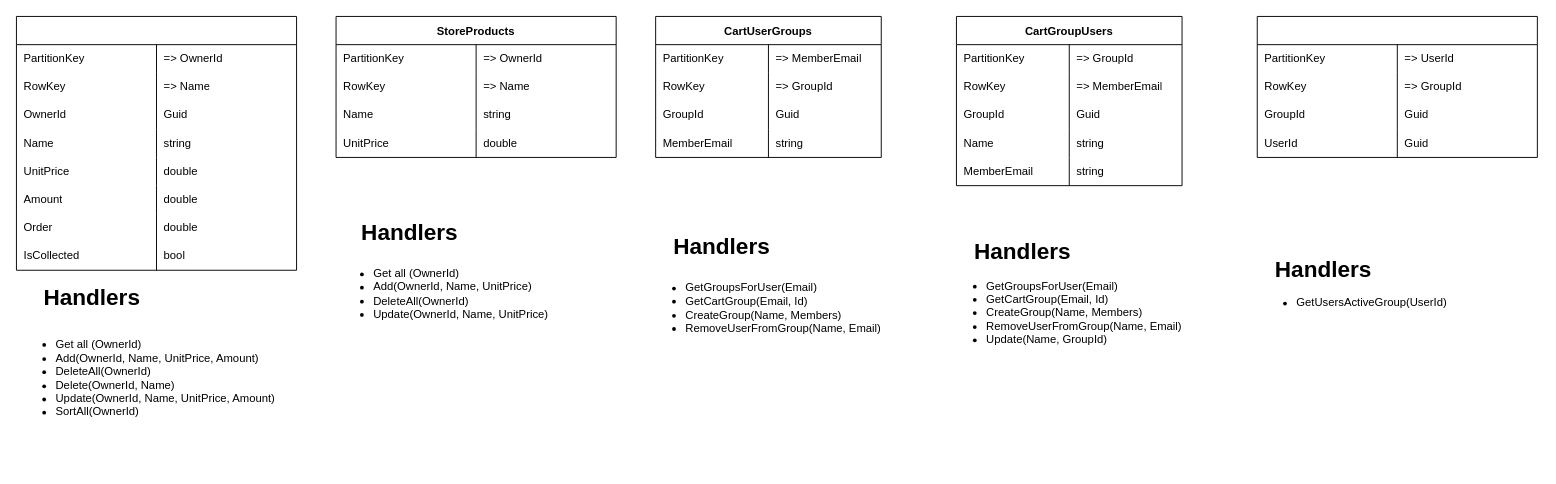
Image size: 1556x484. Some labels were removed from this diagram. Here are the shapes that lost their labels. From the top down, the box of each, then its label:
(1256, 16, 1537, 157): ActiveCartGroups
(16, 16, 297, 270): CartProducts
